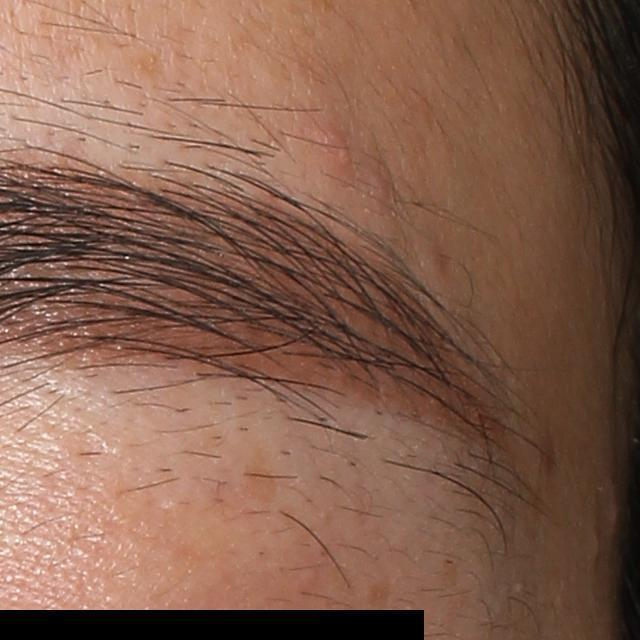melasma: (362, 574, 396, 619)
